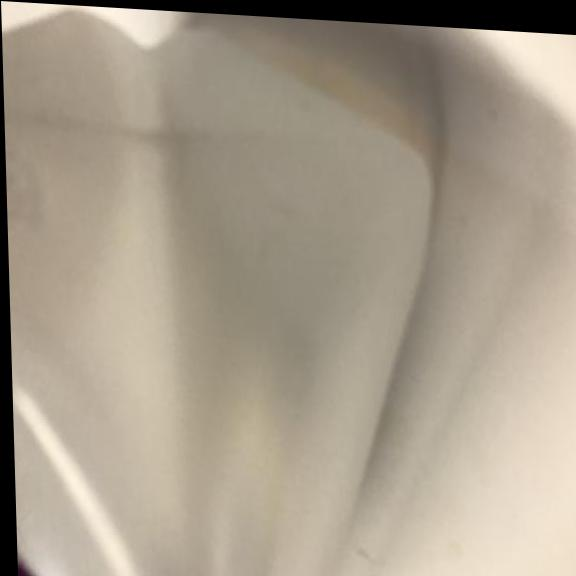Plastik: (0, 6, 576, 576)
